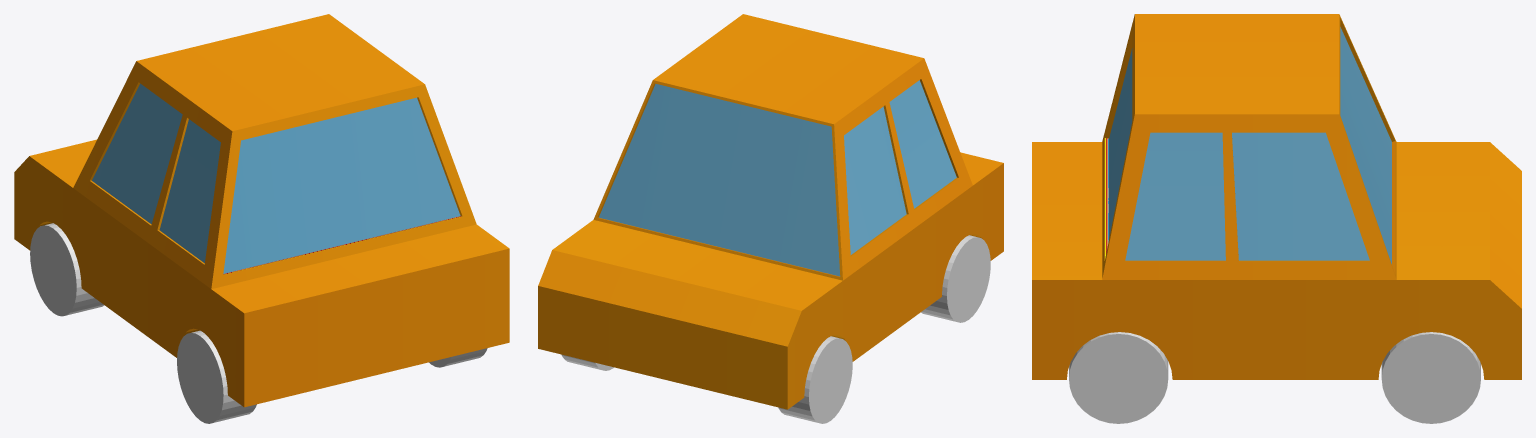
The model's file is car.glb.
3 renders of one model, left to right at view 1: azimuth 30°, elevation 25°; view 2: azimuth 150°, elevation 25°; view 3: azimuth 270°, elevation 25°, orthographic. The views are drawn at different scales.
Parts seen in each view (by area): view 1: Cube, wheel_rr, wheel_fr; view 2: Cube, wheel_fr, wheel_rr; view 3: Cube, wheel_fl, wheel_rl.
Boxes of the visible parts, x1,y1,x2,y2 form: Cube: (14,14,509,407); wheel_rr: (177,330,256,423); wheel_fr: (30,223,104,316); Cube: (538,14,1003,409); wheel_fr: (778,336,852,423); wheel_rr: (921,235,990,322); Cube: (1032,14,1521,379); wheel_fl: (1381,332,1480,423); wheel_rl: (1069,332,1168,423).
Size of the model in its own units: 2.03 by 1.97 by 3.
Materials: 1 (1 with a texture image).
